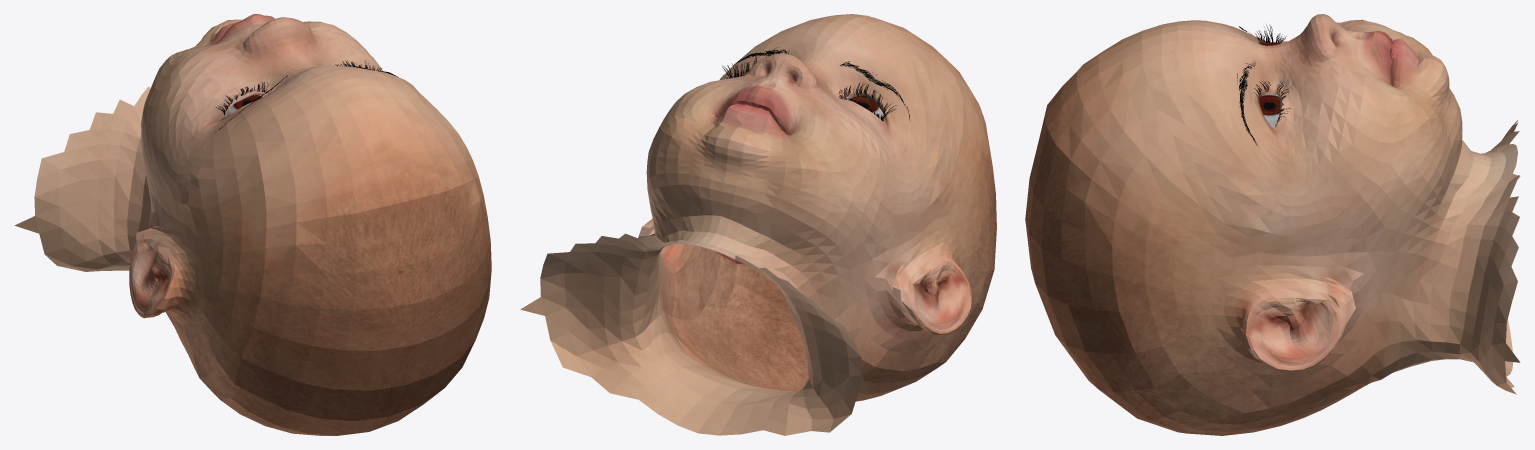
The model's file is baby_head.obj.
3 renders of one model, left to right at view 1: azimuth 30°, elevation 25°; view 2: azimuth 150°, elevation 25°; view 3: azimuth 270°, elevation 25°, orthographic. The views are drawn at different scales.
Size of the model in its own units: 120 by 120 by 134.
Materials: 5 (5 with a texture image).
